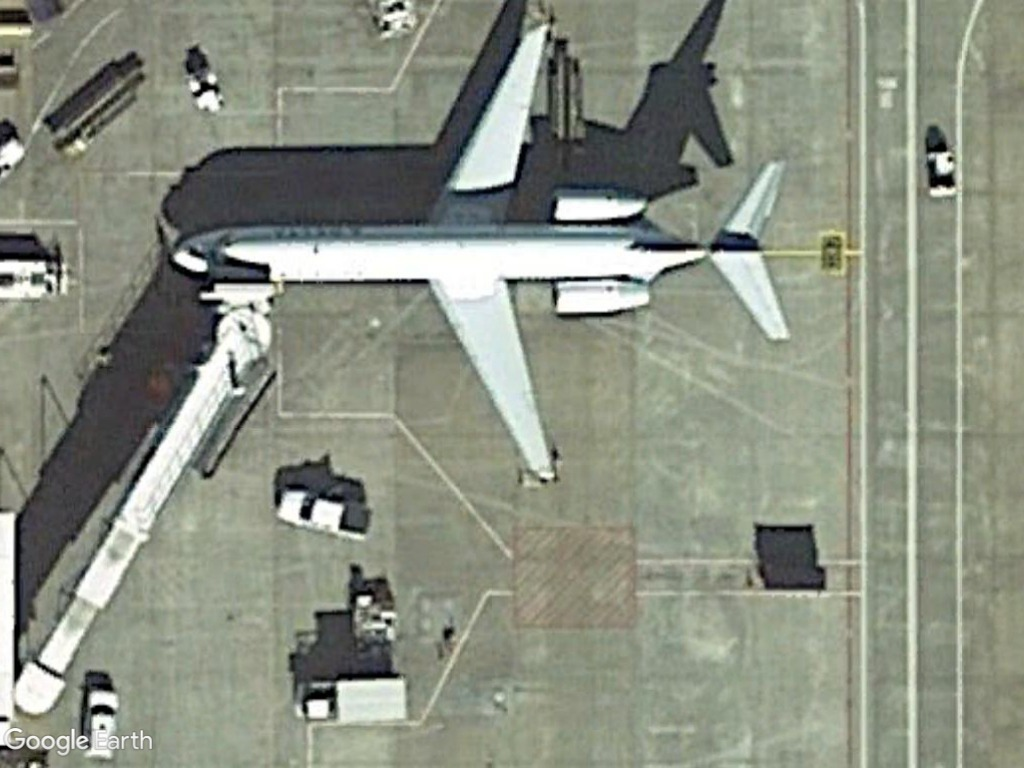chartered: (158, 16, 813, 492)
other: (275, 481, 375, 539)
truck: (290, 671, 412, 727)
